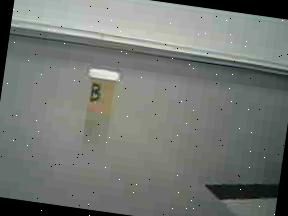Bottle B: (77, 62, 127, 120)
